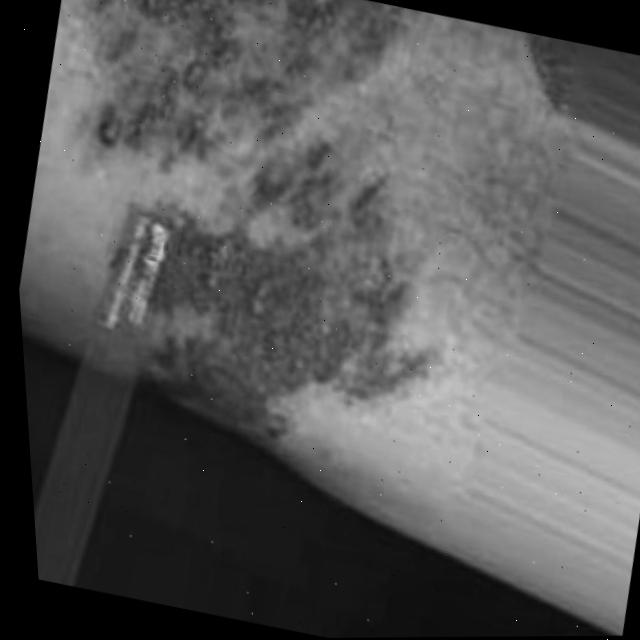Shingles: (21, 0, 518, 463)
